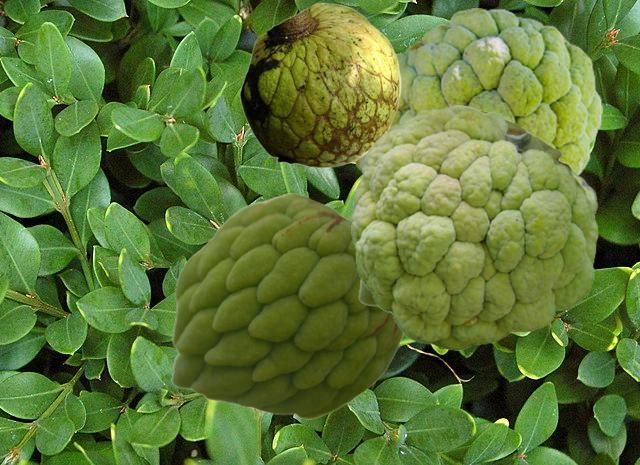atis: (351, 105, 597, 349), (171, 193, 404, 418), (358, 110, 576, 334), (352, 8, 601, 179), (239, 2, 400, 167)
